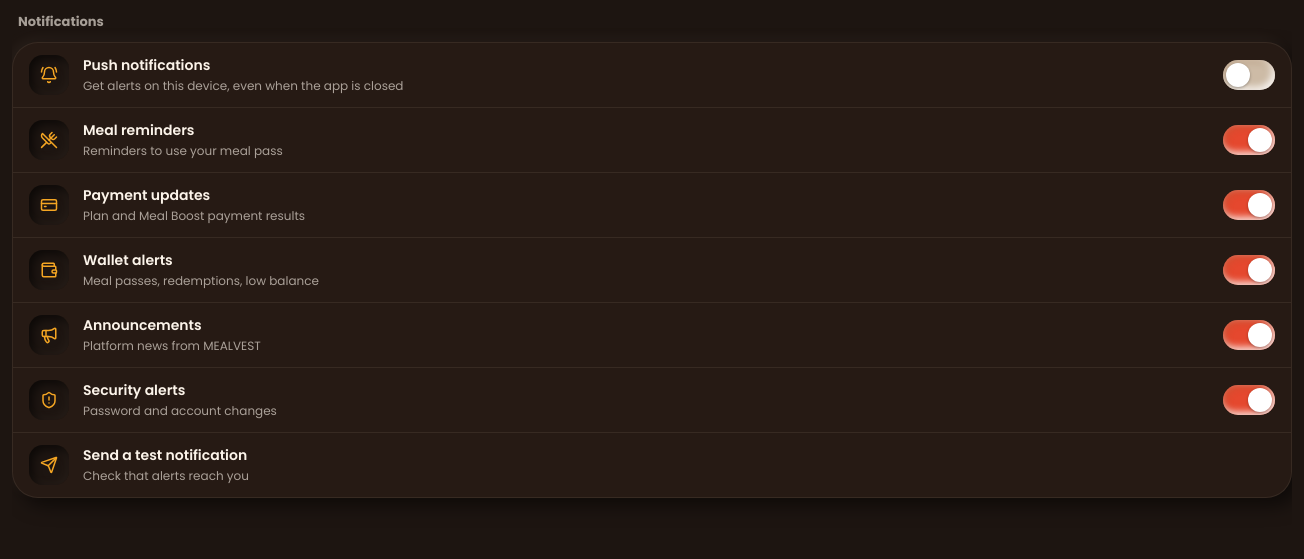
Test: student NotificationSettingsSection — push row › the test button reports reality, never a blanket 'Test sent'
The image size is (1304, 559).
Click the button "Send a test notification Check that alerts reach you": [49, 465] box [13,432,1291,497]
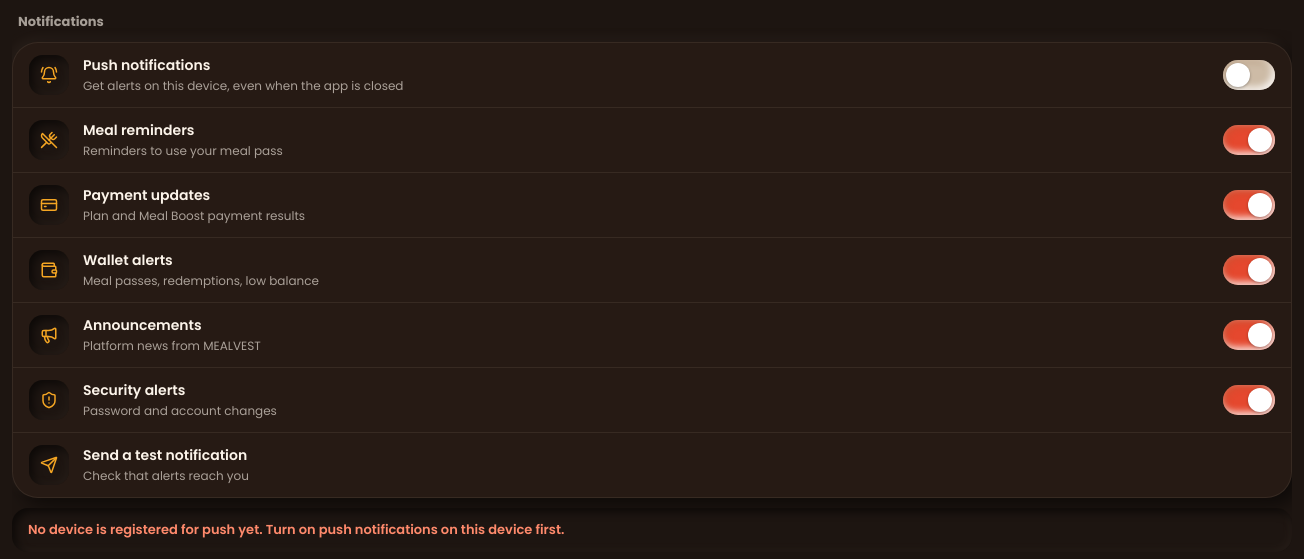
Now the text "No device is registered for push" is shown, box [28,520,564,539]
